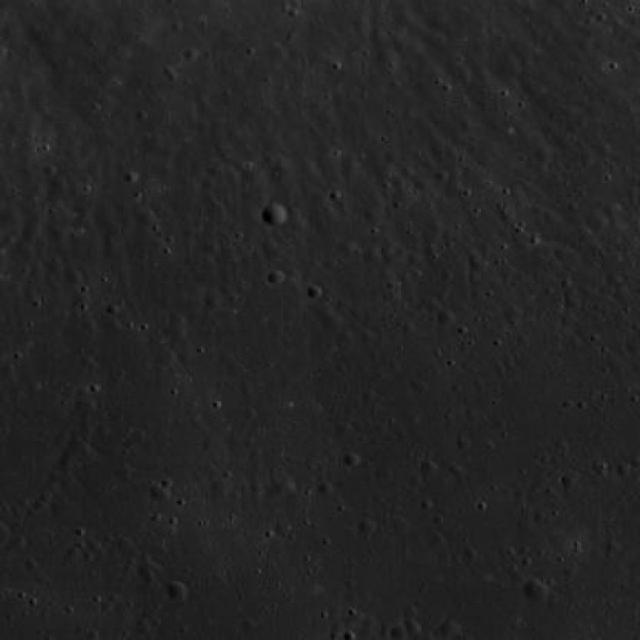crater: (190, 257, 222, 285), (492, 54, 522, 80), (264, 157, 294, 183), (66, 440, 92, 466), (262, 204, 290, 228), (338, 154, 364, 178), (21, 220, 47, 243), (99, 236, 124, 258), (524, 580, 548, 602), (0, 208, 22, 232), (242, 163, 264, 186), (438, 621, 463, 640), (320, 312, 343, 332), (270, 473, 293, 493), (391, 6, 414, 26), (70, 201, 93, 221), (166, 582, 188, 602), (332, 330, 354, 350), (425, 138, 447, 158), (372, 42, 394, 62), (140, 134, 162, 154), (211, 479, 232, 499), (554, 245, 576, 264), (504, 306, 524, 326), (589, 217, 609, 236), (256, 235, 276, 254), (171, 335, 192, 353), (204, 290, 224, 308), (138, 562, 158, 580), (77, 398, 97, 416), (167, 324, 187, 342), (309, 298, 329, 316), (496, 204, 516, 222), (299, 158, 318, 176), (48, 258, 67, 276), (45, 218, 64, 236), (358, 519, 378, 536), (376, 467, 396, 484), (200, 235, 220, 252), (337, 240, 355, 258), (438, 310, 456, 328), (262, 483, 281, 500), (204, 160, 223, 177), (266, 270, 286, 286), (424, 228, 442, 245), (420, 460, 438, 477), (392, 517, 410, 534), (50, 177, 68, 194), (367, 23, 385, 40), (138, 212, 157, 228), (389, 624, 408, 640), (535, 148, 554, 164), (593, 144, 612, 160), (352, 18, 370, 34), (388, 172, 406, 188), (470, 256, 487, 272), (563, 473, 580, 489), (336, 421, 353, 437), (59, 454, 76, 469), (626, 340, 640, 356), (118, 466, 134, 480)
